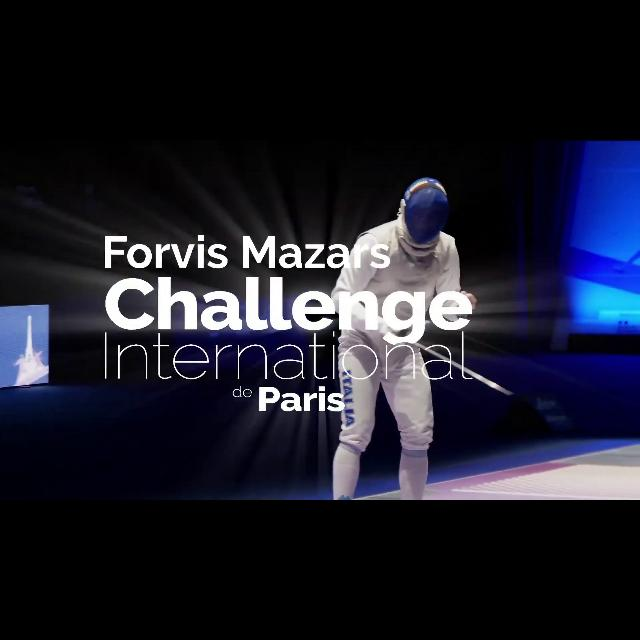blade: (390, 324, 514, 402)
